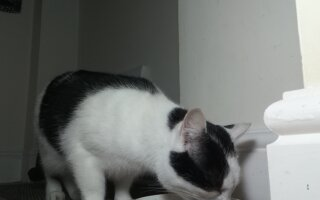bad: (30, 66, 250, 200)
